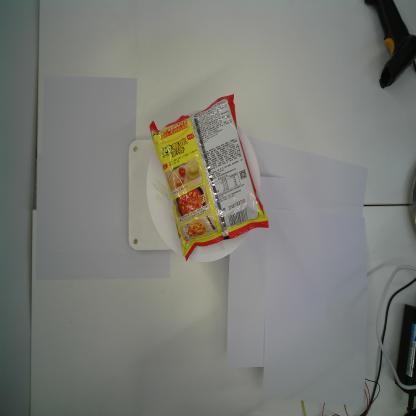Instant Noodles: (148, 94, 270, 263)
